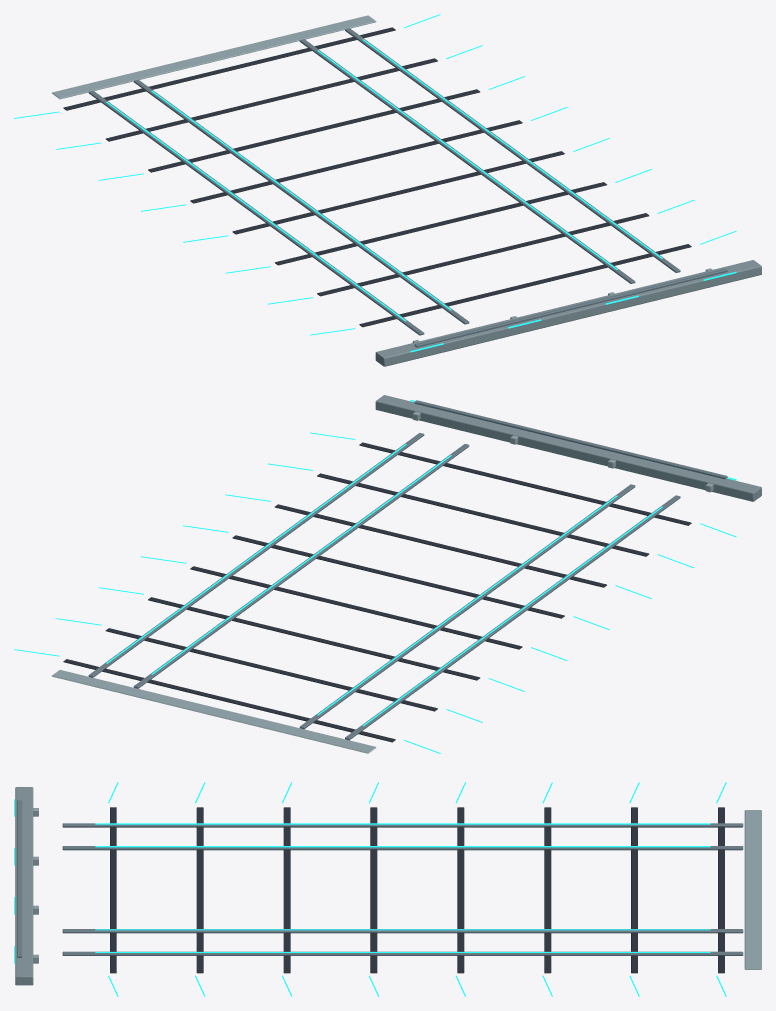
File: sector_1_rail_approach.glb
3 views of the same model, one above another, from view 1: azimuth 30°, elevation 25°; view 2: azimuth 150°, elevation 25°; view 3: azimuth 270°, elevation 25° (orthographic). The views are drawn at different scales.
Parts seen in each view (by area): view 1: RailApproachNorthDefenseGateBase, RailApproachSouthRunupPlate, RailApproachLongRail2, RailApproachLongRail1, RailApproachLongRail3, RailApproachLongRail0, RailApproachNorthDefenseGateTopBrace, RailApproachSleeperPlate4, RailApproachSleeperPlate3, RailApproachSleeperPlate1, RailApproachSleeperPlate5, RailApproachSleeperPlate6 (+7 smaller); view 2: RailApproachNorthDefenseGateBase, RailApproachSouthRunupPlate, RailApproachLongRail2, RailApproachLongRail3, RailApproachLongRail0, RailApproachLongRail1, RailApproachNorthDefenseGateTopBrace, RailApproachSleeperPlate0, RailApproachSleeperPlate3, RailApproachSleeperPlate7, RailApproachSleeperPlate4, RailApproachSleeperPlate6 (+7 smaller); view 3: RailApproachLongRail2, RailApproachNorthDefenseGateBase, RailApproachSouthRunupPlate, RailApproachLongRail3, RailApproachLongRail0, RailApproachLongRail1, RailApproachSleeperPlate5, RailApproachSleeperPlate1, RailApproachSleeperPlate2, RailApproachSleeperPlate3, RailApproachSleeperPlate4, RailApproachCyanRailCore0 (+7 smaller).
Boxes of the visible parts, box(x1,y1,x2,y2) form: RailApproachNorthDefenseGateBase: box(375, 260, 761, 366); RailApproachSouthRunupPlate: box(52, 15, 376, 99); RailApproachLongRail2: box(299, 39, 635, 283); RailApproachLongRail1: box(133, 79, 469, 324); RailApproachLongRail3: box(345, 28, 680, 272); RailApproachLongRail0: box(88, 90, 424, 335); RailApproachNorthDefenseGateTopBrace: box(414, 268, 727, 347); RailApproachSleeperPlate4: box(190, 120, 522, 203); RailApproachSleeperPlate3: box(232, 151, 564, 234); RailApproachSleeperPlate1: box(317, 213, 649, 296); RailApproachSleeperPlate5: box(148, 89, 480, 172); RailApproachSleeperPlate6: box(106, 58, 437, 141); RailApproachNorthDefenseGateBase: box(375, 395, 761, 501); RailApproachSouthRunupPlate: box(52, 670, 376, 753); RailApproachLongRail2: box(133, 444, 469, 688); RailApproachLongRail3: box(88, 433, 424, 677); RailApproachLongRail0: box(345, 495, 680, 740); RailApproachLongRail1: box(299, 484, 635, 729); RailApproachNorthDefenseGateTopBrace: box(414, 400, 727, 479); RailApproachSleeperPlate0: box(359, 442, 691, 525); RailApproachSleeperPlate3: box(232, 535, 564, 618); RailApproachSleeperPlate7: box(63, 659, 395, 742); RailApproachSleeperPlate4: box(190, 566, 522, 649); RailApproachSleeperPlate6: box(105, 628, 437, 711); RailApproachLongRail2: box(62, 929, 743, 933); RailApproachNorthDefenseGateBase: box(15, 787, 33, 985); RailApproachSouthRunupPlate: box(744, 810, 761, 969); RailApproachLongRail3: box(62, 951, 743, 955); RailApproachLongRail0: box(62, 823, 743, 827); RailApproachLongRail1: box(62, 846, 743, 850); RailApproachSleeperPlate5: box(544, 807, 551, 973); RailApproachSleeperPlate1: box(196, 807, 203, 973); RailApproachSleeperPlate2: box(283, 807, 290, 973); RailApproachSleeperPlate3: box(370, 807, 377, 973); RailApproachSleeperPlate4: box(457, 807, 464, 973); RailApproachCyanRailCore0: box(95, 823, 710, 824).
Bounding box in the file's own units: 34.95 × 1 × 51.66.
